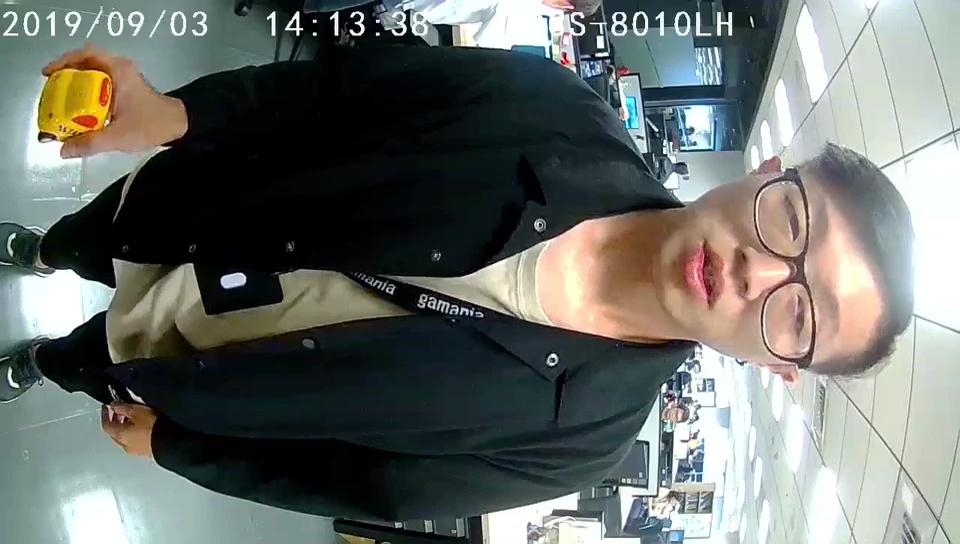car: (39, 70, 110, 142)
